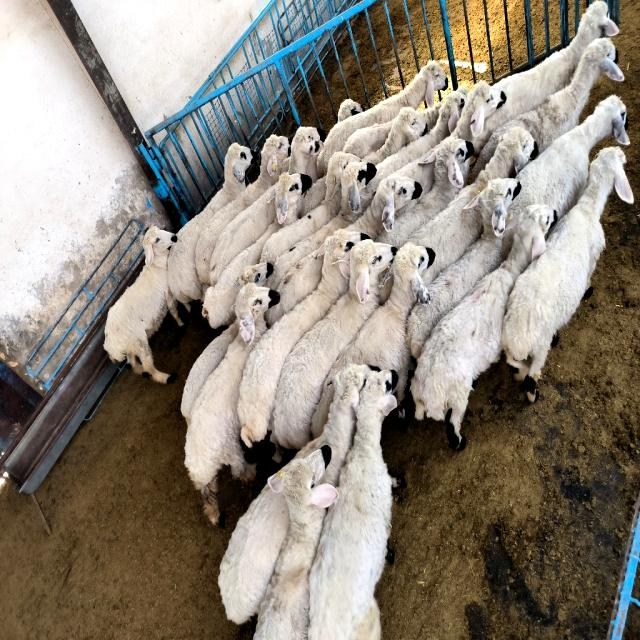sheep: (411, 205, 555, 450), (502, 147, 634, 402), (238, 230, 364, 446), (274, 240, 394, 449), (309, 370, 396, 638), (185, 283, 279, 523), (475, 0, 619, 154), (406, 178, 520, 358), (406, 128, 535, 284), (474, 38, 624, 172), (330, 243, 434, 426), (202, 173, 311, 328), (254, 445, 339, 640), (318, 60, 448, 175), (509, 95, 630, 218), (168, 143, 252, 309), (196, 135, 290, 282), (270, 162, 374, 288), (104, 227, 184, 382), (365, 87, 468, 195), (261, 153, 360, 262), (378, 137, 472, 247), (219, 485, 290, 623), (298, 372, 364, 486), (210, 183, 278, 284), (346, 177, 422, 240), (266, 247, 323, 326), (364, 108, 426, 164), (451, 82, 506, 144), (391, 150, 435, 193), (289, 127, 322, 174)
